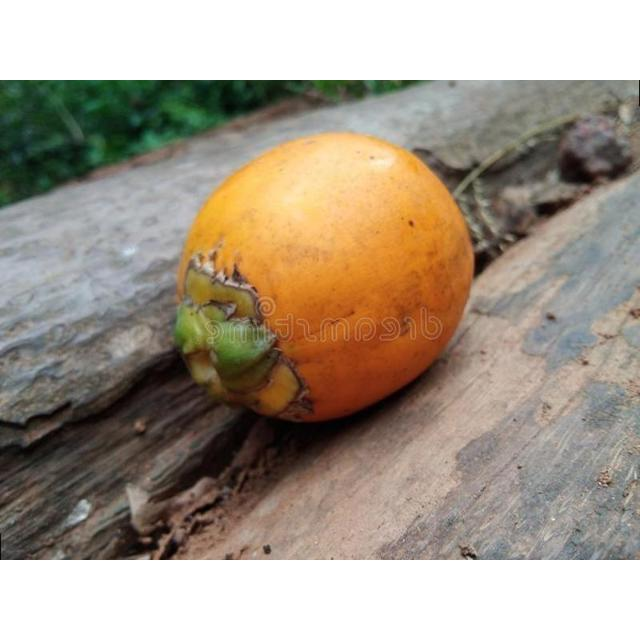good: (142, 139, 484, 425)
